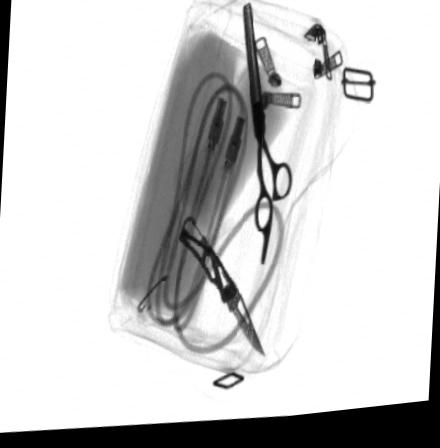Knife: (175, 221, 265, 365)
Scissors: (242, 7, 293, 273)
